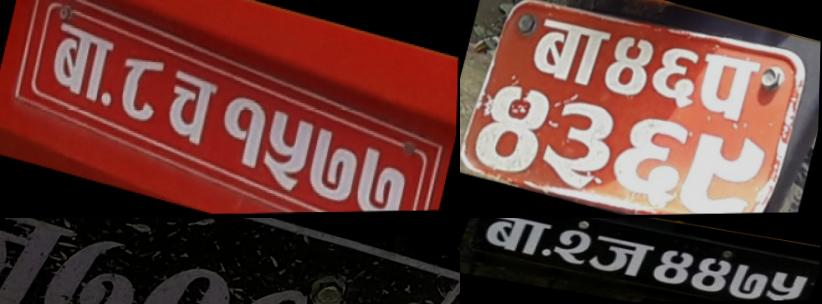0: (528, 13, 610, 92)
1: (212, 88, 274, 177)
2: (0, 218, 73, 304), (546, 224, 598, 269)
4: (606, 109, 694, 211), (37, 227, 147, 304), (646, 41, 704, 111), (646, 245, 700, 290), (686, 253, 738, 297)
5: (470, 77, 555, 179), (254, 96, 323, 198), (600, 32, 656, 101), (758, 266, 813, 302)
7: (303, 120, 368, 214), (348, 140, 421, 213), (724, 260, 775, 302)
8: (110, 43, 172, 130), (692, 50, 760, 126)
ba: (538, 94, 619, 194), (42, 14, 120, 110), (475, 218, 558, 261)
cha: (158, 63, 223, 154), (124, 255, 238, 304), (206, 277, 322, 304)
ja: (581, 230, 660, 283)
lu: (676, 125, 766, 215)
